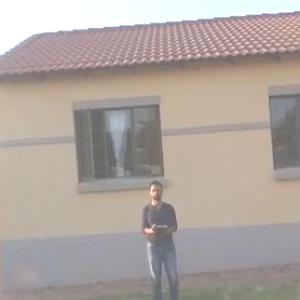follow: (142, 175, 184, 299)
